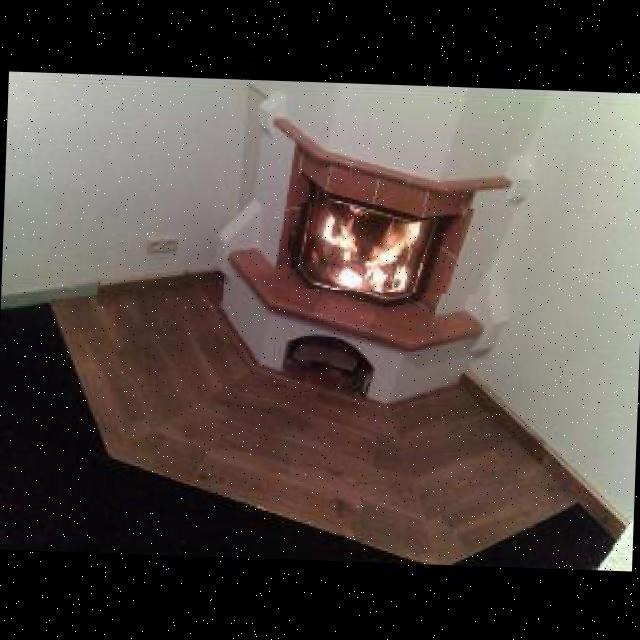fire: (286, 202, 493, 295)
